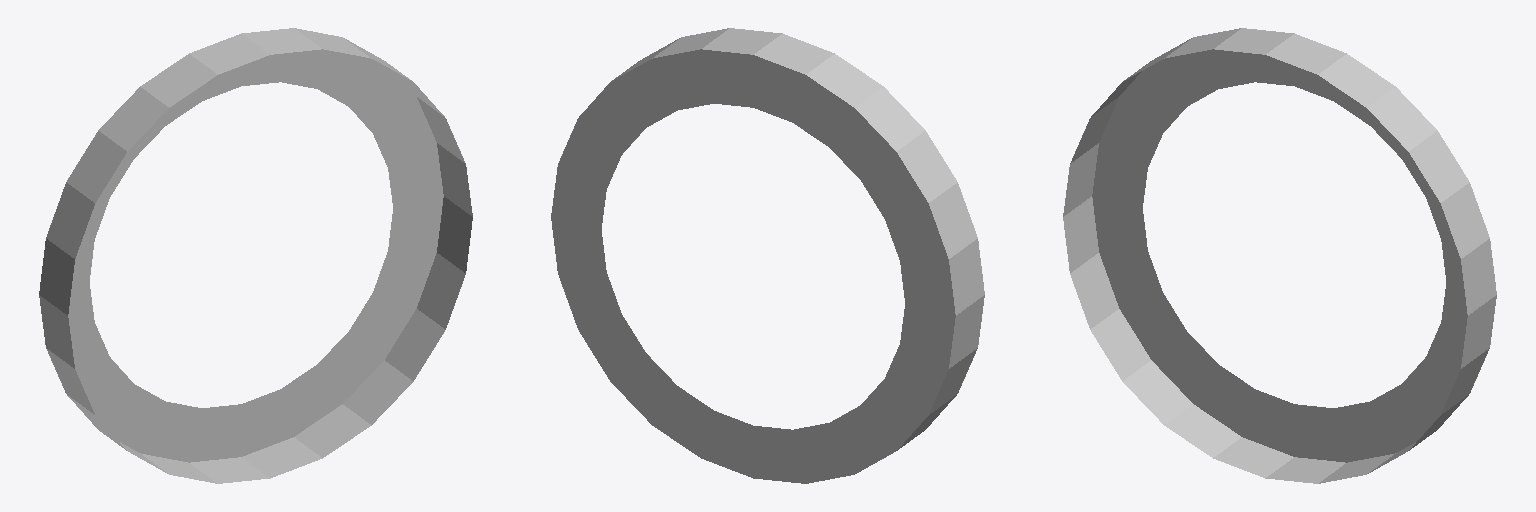
Rendered from original-17.obj.
3 views of the same model, side by side, from view 1: azimuth 30°, elevation 25°; view 2: azimuth 150°, elevation 25°; view 3: azimuth 330°, elevation 25° (orthographic).
Visible parts, largest first — view 1: #ID322; view 2: #ID322; view 3: #ID322.
Part boxes in pixels (x1,y1,x2,y2): #ID322: (39, 28, 472, 483); #ID322: (551, 28, 984, 483); #ID322: (1063, 28, 1496, 483).
Size of the model in its own units: 0.1538 by 0.1538 by 0.0192.